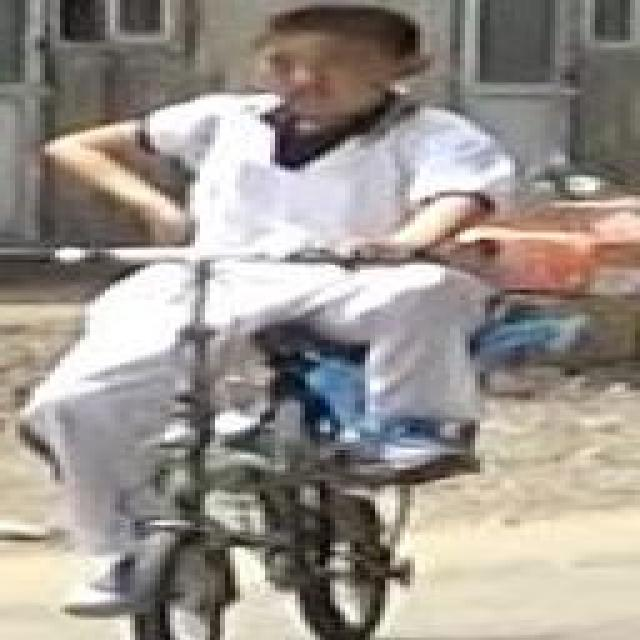child: (33, 8, 510, 624)
